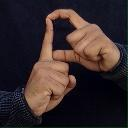hand: (23, 17, 76, 117), (48, 8, 120, 72)
